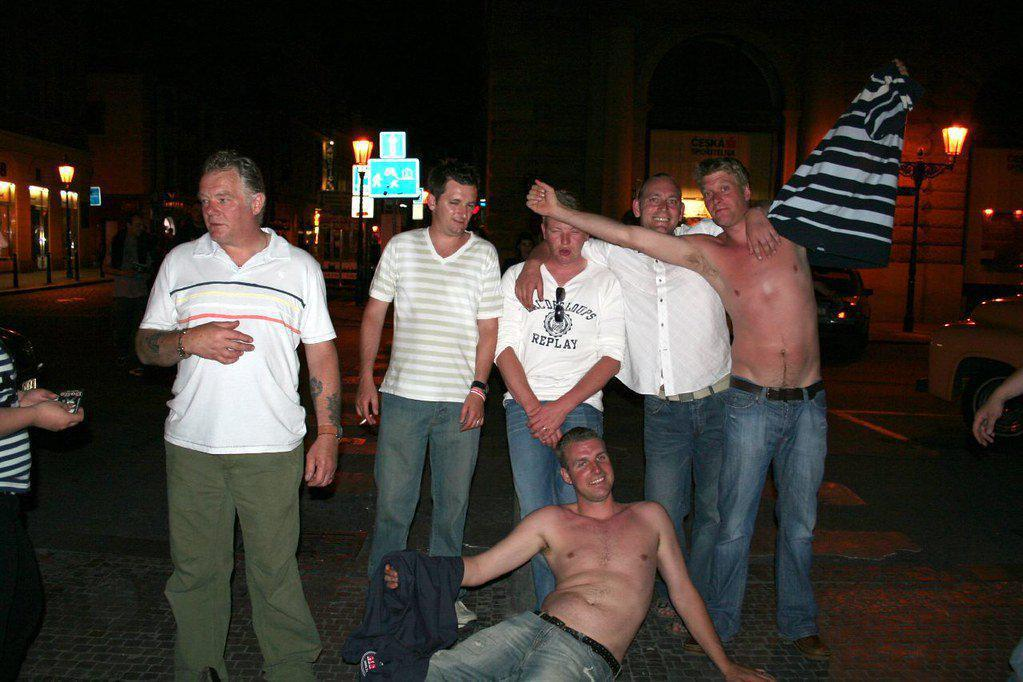Drunk: (201, 176, 247, 241), (565, 436, 614, 497), (642, 166, 683, 234), (543, 207, 588, 266), (702, 170, 748, 223), (442, 182, 479, 236)
